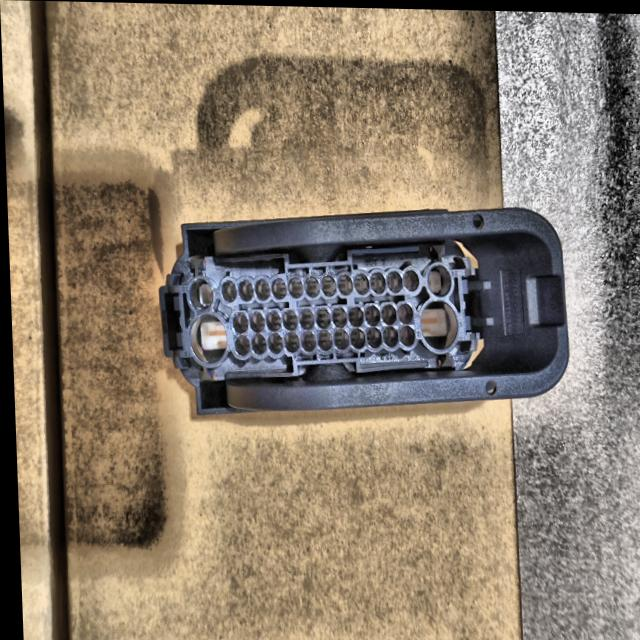P38: (157, 206, 566, 414)
